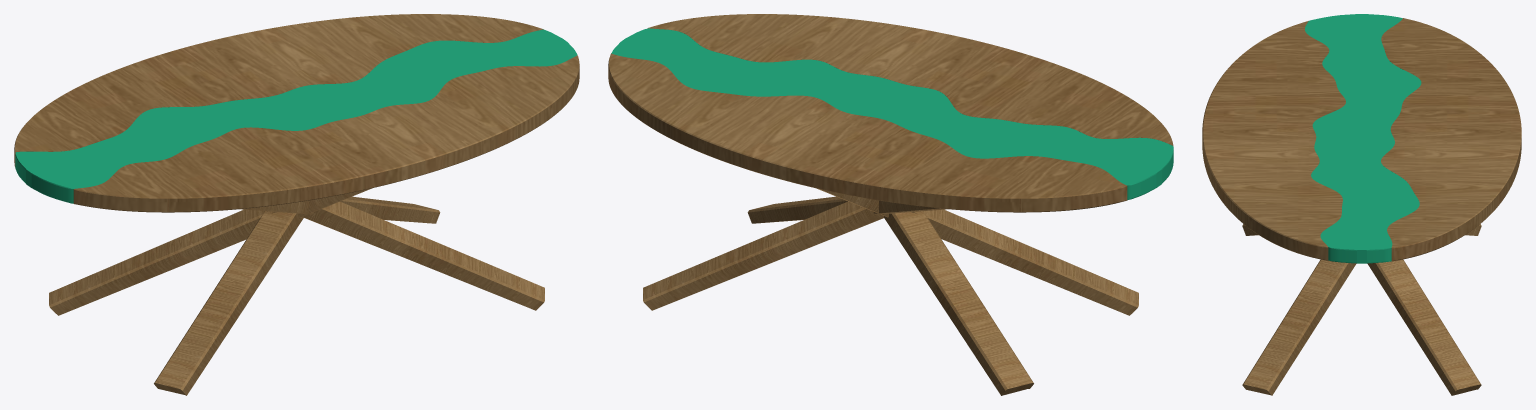
Rendered from ellipse-oak-epoxy-emerald.glb.
The picture shows the model from 3 angles, left to right: view 1: azimuth 30°, elevation 25°; view 2: azimuth 150°, elevation 25°; view 3: azimuth 270°, elevation 25°; orthographic projection. The views are drawn at different scales.
Parts seen in each view (by area): view 1: Wood_Ellipse_EpoxyFar, Wood_Ellipse_EpoxyNear, Base_Ellipse, Resin_Ellipse; view 2: Wood_Ellipse_EpoxyNear, Wood_Ellipse_EpoxyFar, Base_Ellipse, Resin_Ellipse; view 3: Wood_Ellipse_EpoxyNear, Wood_Ellipse_EpoxyFar, Resin_Ellipse, Base_Ellipse.
Part boxes in pixels (<box>): Wood_Ellipse_EpoxyFar: <box>73,55,579,212</box>; Wood_Ellipse_EpoxyNear: <box>14,14,543,166</box>; Base_Ellipse: <box>49,188,544,395</box>; Resin_Ellipse: <box>15,29,577,203</box>; Wood_Ellipse_EpoxyNear: <box>608,53,1127,212</box>; Wood_Ellipse_EpoxyFar: <box>647,14,1173,145</box>; Base_Ellipse: <box>643,188,1138,395</box>; Resin_Ellipse: <box>611,28,1173,200</box>; Wood_Ellipse_EpoxyNear: <box>1381,18,1521,261</box>; Wood_Ellipse_EpoxyFar: <box>1202,21,1345,260</box>; Resin_Ellipse: <box>1305,14,1421,263</box>; Base_Ellipse: <box>1242,224,1481,395</box>.
Size of the model in its own units: 2.13 by 0.762 by 1.22.
Materials: 2 (1 with a texture image).
